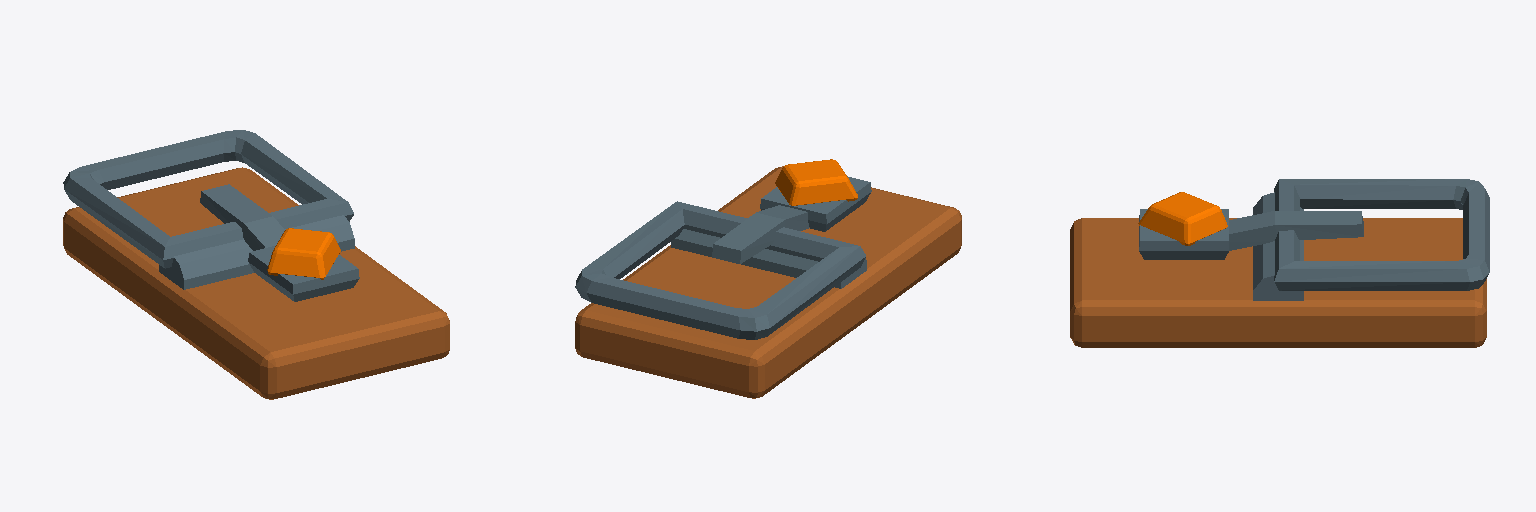
Rendered from mousetrap.obj.
3 renders of one model, left to right at view 1: azimuth 30°, elevation 25°; view 2: azimuth 150°, elevation 25°; view 3: azimuth 270°, elevation 25°, orthographic.
Visible parts, largest first — view 1: mousetrap_Cube.8507, mousetrap_snap_Cube.8508, mousetrap_bait_Cube.8509; view 2: mousetrap_Cube.8507, mousetrap_snap_Cube.8508, mousetrap_bait_Cube.8509; view 3: mousetrap_Cube.8507, mousetrap_snap_Cube.8508, mousetrap_bait_Cube.8509.
Boxes of the visible parts, <box> form: mousetrap_Cube.8507: <box>63,167,449,399</box>; mousetrap_snap_Cube.8508: <box>63,130,353,268</box>; mousetrap_bait_Cube.8509: <box>267,228,340,279</box>; mousetrap_Cube.8507: <box>575,166,961,398</box>; mousetrap_snap_Cube.8508: <box>575,201,865,339</box>; mousetrap_bait_Cube.8509: <box>775,159,857,205</box>; mousetrap_Cube.8507: <box>1070,192,1486,347</box>; mousetrap_snap_Cube.8508: <box>1274,179,1489,290</box>; mousetrap_bait_Cube.8509: <box>1138,192,1227,245</box>.
Size of the model in its own units: 0.3712 by 0.1859 by 0.6942.